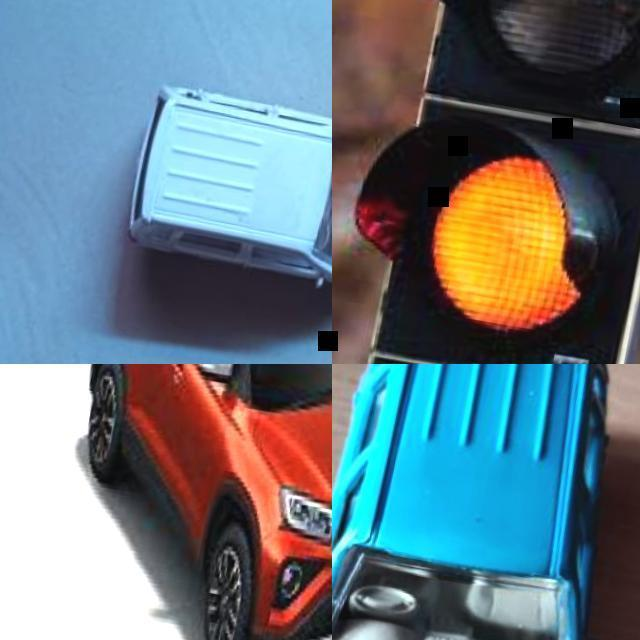car: (407, 155, 638, 346)
